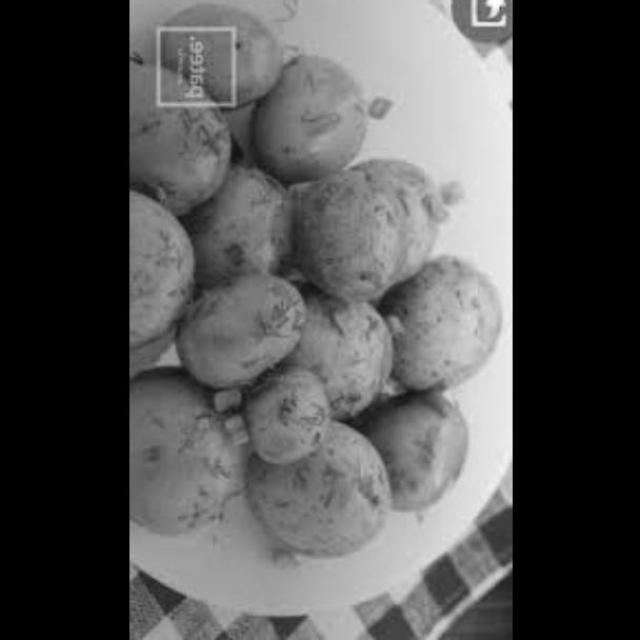potato: (225, 406, 398, 560), (129, 356, 248, 537), (302, 162, 452, 298), (356, 376, 486, 523), (129, 48, 248, 208), (196, 140, 312, 289), (385, 262, 508, 399), (184, 269, 313, 384), (130, 179, 217, 347), (259, 52, 370, 182), (153, 1, 283, 104), (242, 360, 335, 474), (316, 287, 398, 414)
